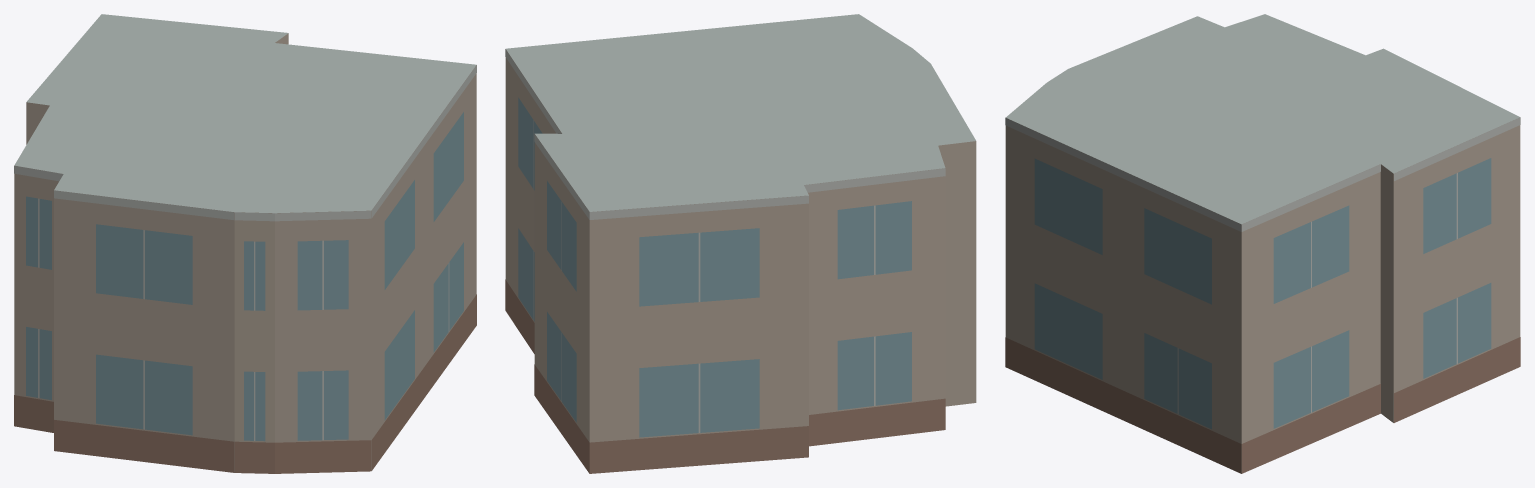
File: survey-upis-32855458.glb
3 views of the same model, side by side, from view 1: azimuth 30°, elevation 25°; view 2: azimuth 150°, elevation 25°; view 3: azimuth 270°, elevation 25° (orthographic). The views are drawn at different scales.
Visible parts, largest first — view 1: survey-upis-32855458.tmp; view 2: survey-upis-32855458.tmp; view 3: survey-upis-32855458.tmp.
Boxes of the visible parts, bbox=[...] form: survey-upis-32855458.tmp: bbox=[14, 14, 476, 473]; survey-upis-32855458.tmp: bbox=[505, 14, 976, 473]; survey-upis-32855458.tmp: bbox=[1005, 14, 1520, 473].
Size of the model in its own units: 14.2 by 7.85 by 14.69.
